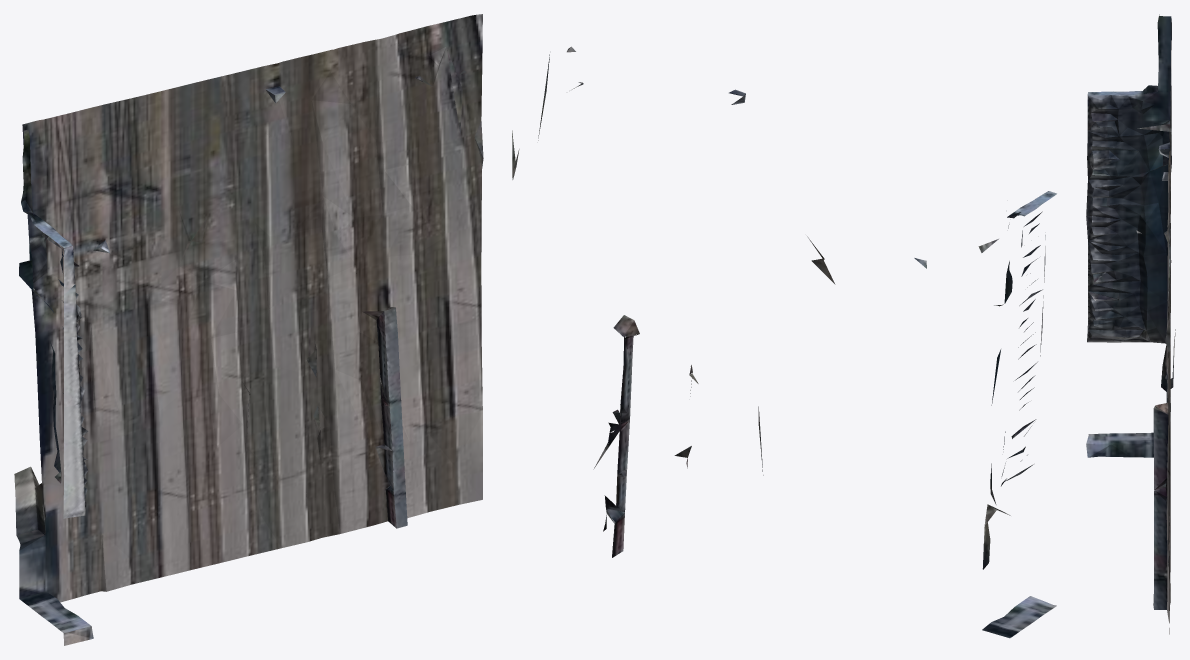
The model's file is Tile_+033_+023_L17_0001.glb.
3 views of the same model, side by side, from view 1: azimuth 30°, elevation 25°; view 2: azimuth 150°, elevation 25°; view 3: azimuth 270°, elevation 25° (orthographic). The views are drawn at different scales.
Bounding box in the file's own units: 126 × 126 × 23.77.
Materials: 1 (1 with a texture image).
